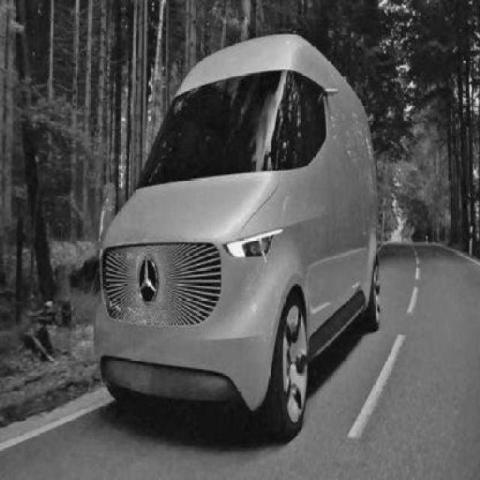van: (103, 35, 382, 442)
